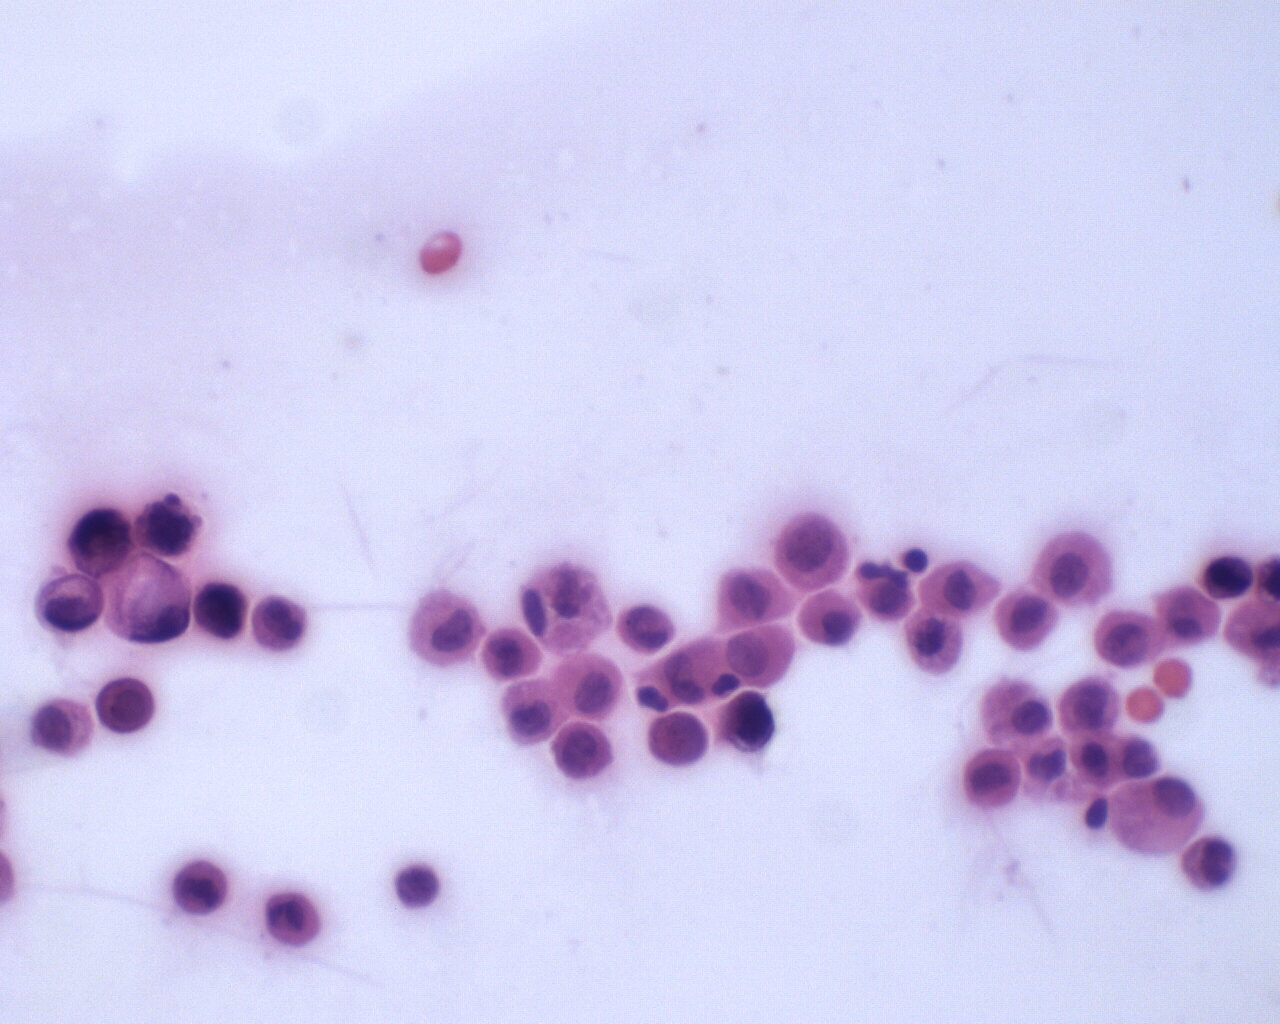ab: (67, 505, 135, 580), (1093, 607, 1167, 667), (37, 573, 104, 637), (721, 690, 779, 760), (553, 719, 615, 784), (95, 676, 160, 737), (647, 709, 709, 771), (192, 582, 249, 642), (1201, 551, 1257, 603)
histo: (107, 553, 193, 648)
meso: (1033, 527, 1116, 615), (771, 508, 855, 594), (980, 675, 1054, 753), (554, 651, 628, 719), (798, 587, 865, 647)
